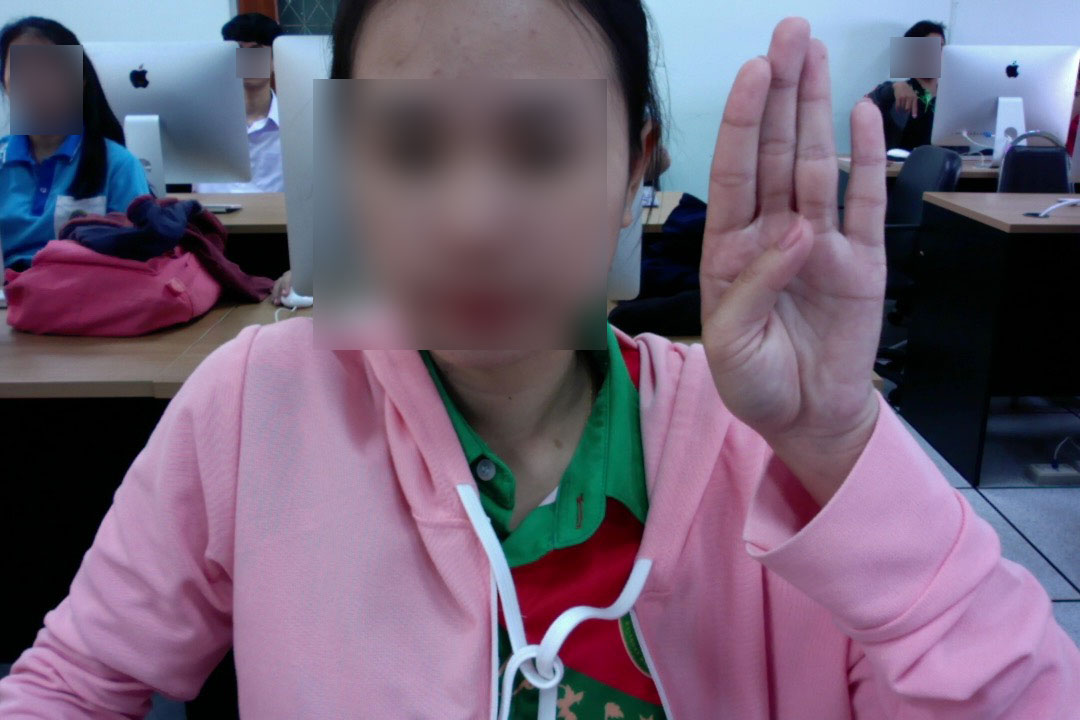bor: (694, 12, 894, 438)
